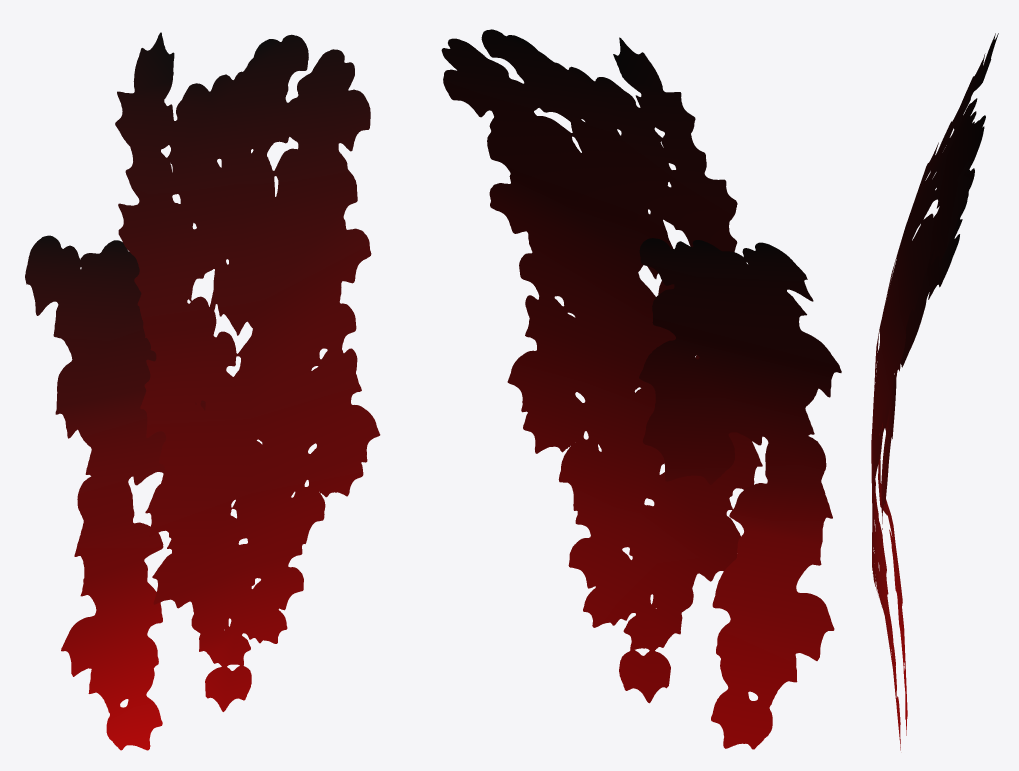
File: Vine_03.fbx
3 renders of one model, left to right at view 1: azimuth 30°, elevation 25°; view 2: azimuth 150°, elevation 25°; view 3: azimuth 270°, elevation 25°, orthographic. The views are drawn at different scales.
Parts seen in each view (by area): view 1: Vine_03; view 2: Vine_03; view 3: Vine_03.
Boxes of the visible parts, x1=… form: Vine_03: x1=25, y1=32, x2=380, y2=750; Vine_03: x1=441, y1=29, x2=841, y2=749; Vine_03: x1=871, y1=33, x2=998, y2=750.
Bounding box in the file's own units: 137 × 252 × 40.51.
